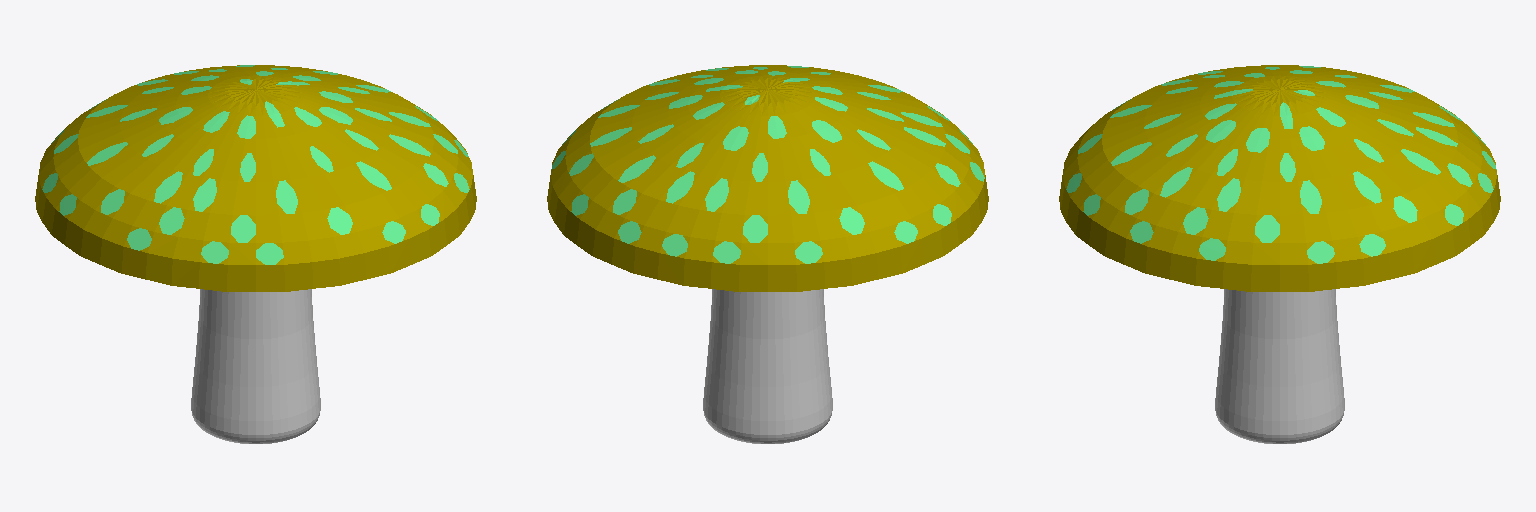
The model's file is golden-mushroom.obj.
The picture shows the model from 3 angles: view 1: azimuth 30°, elevation 25°; view 2: azimuth 150°, elevation 25°; view 3: azimuth 270°, elevation 25°; orthographic projection.
Visible parts, largest first — view 1: Poly; view 2: Poly; view 3: Poly.
Boxes of the visible parts, <box> form: Poly: <box>35,65,476,443</box>; Poly: <box>547,65,988,443</box>; Poly: <box>1059,65,1500,443</box>.
Bounding box in the file's own units: 3.34 × 2.78 × 3.34.